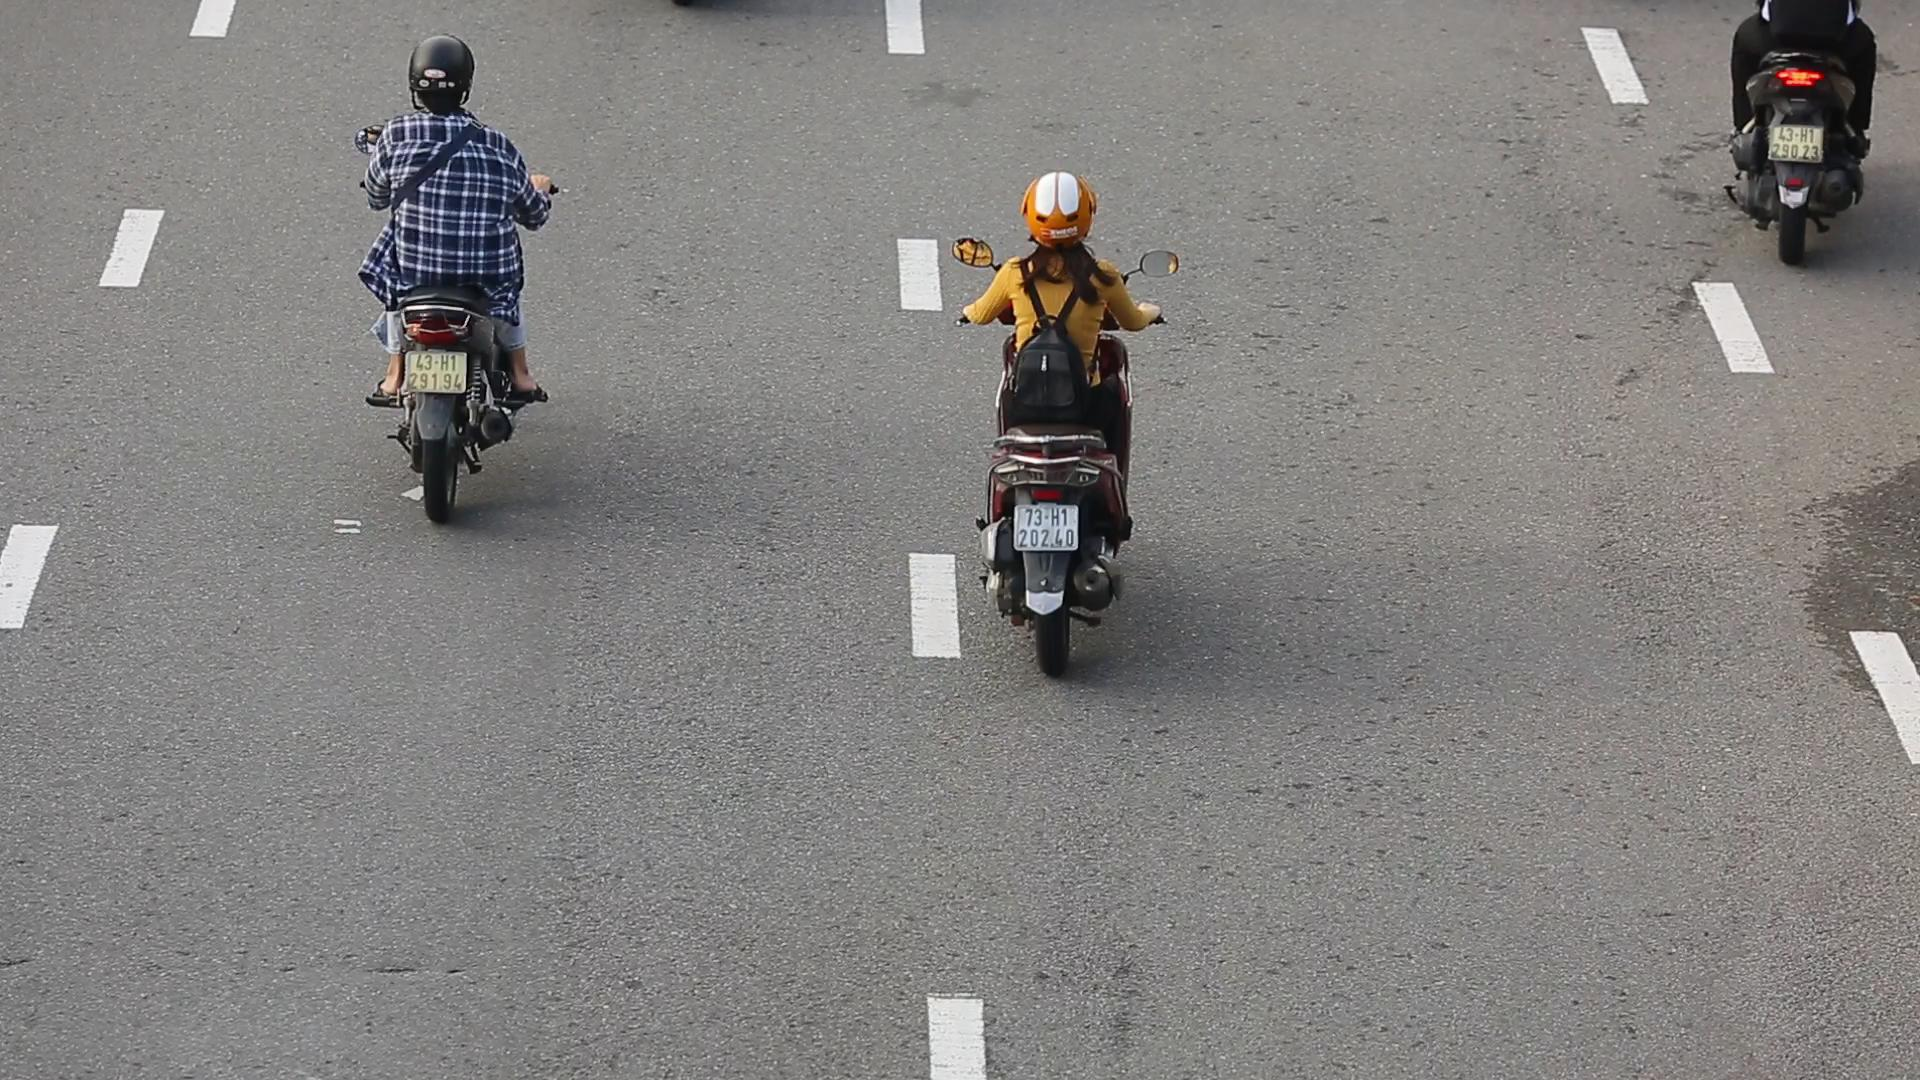motobike: (951, 165, 1178, 676), (353, 36, 571, 530)
